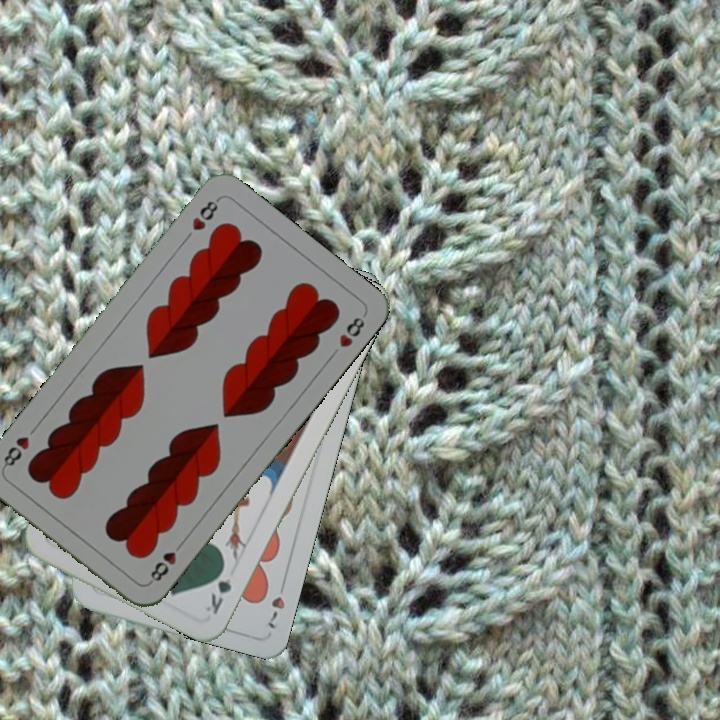GK: (201, 560, 235, 617)
H7: (262, 575, 289, 632)
H8: (145, 536, 187, 586), (187, 194, 222, 234)
